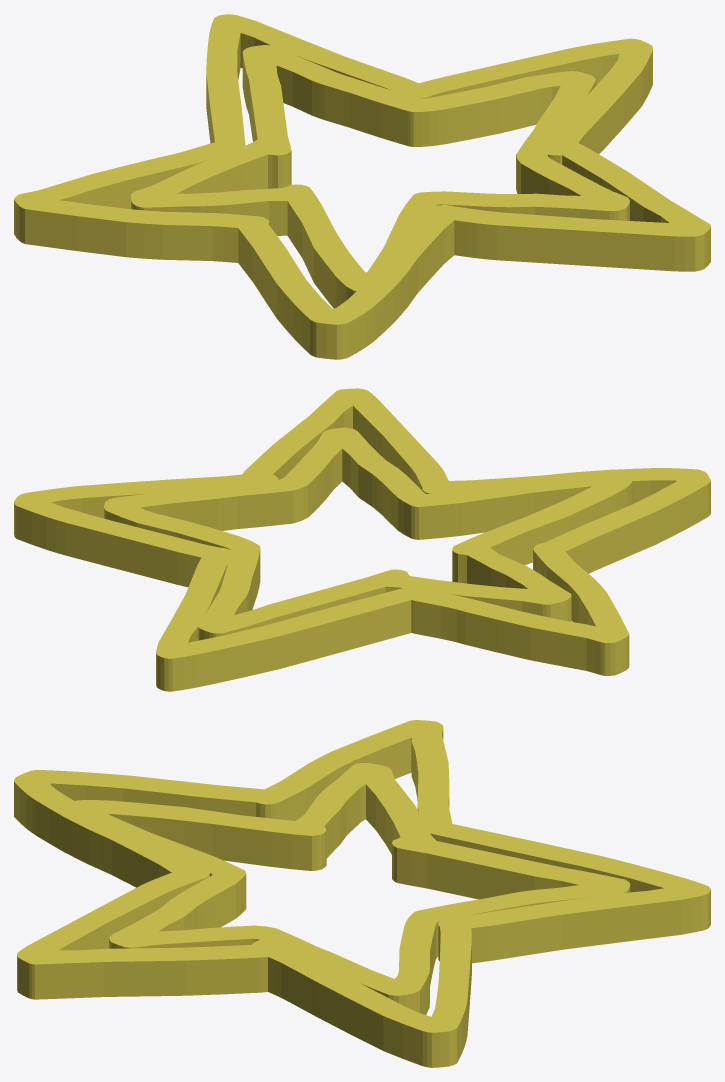
The model's file is star.glb.
The picture shows the model from 3 angles, top to bottom: view 1: azimuth 30°, elevation 25°; view 2: azimuth 150°, elevation 25°; view 3: azimuth 270°, elevation 25°; orthographic projection. The views are drawn at different scales.
Parts seen in each view (by area): view 1: Mesh_Mesh_head_geo.001_lambert2SG.001; view 2: Mesh_Mesh_head_geo.001_lambert2SG.001; view 3: Mesh_Mesh_head_geo.001_lambert2SG.001.
Boxes of the visible parts, x1=… form: Mesh_Mesh_head_geo.001_lambert2SG.001: x1=14, y1=14, x2=710, y2=359; Mesh_Mesh_head_geo.001_lambert2SG.001: x1=14, y1=388, x2=710, y2=691; Mesh_Mesh_head_geo.001_lambert2SG.001: x1=14, y1=720, x2=710, y2=1067.
Size of the model in its own units: 0.0446 by 0.00233 by 0.042.
